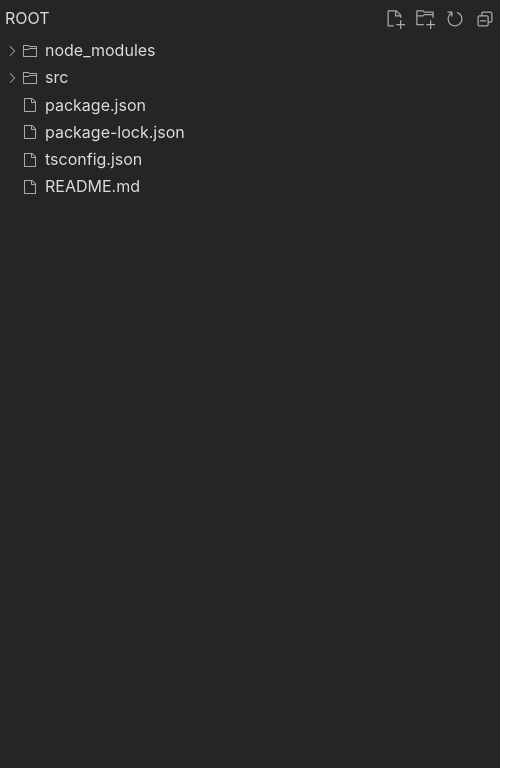
Scenario: expands when src/components directory is clicked
Click the element named "src-file-row": (36,77) x1=4 y1=67 x2=68 y2=87
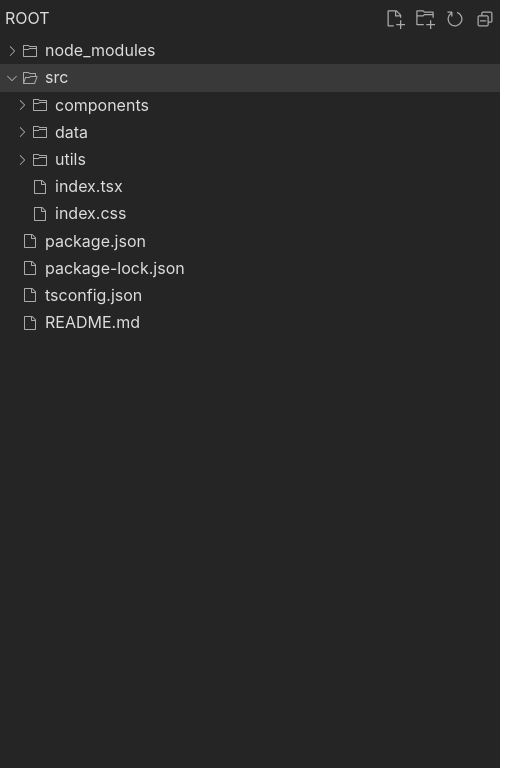
Click the element named "components-file-row": (81,105) x1=14 y1=95 x2=149 y2=115
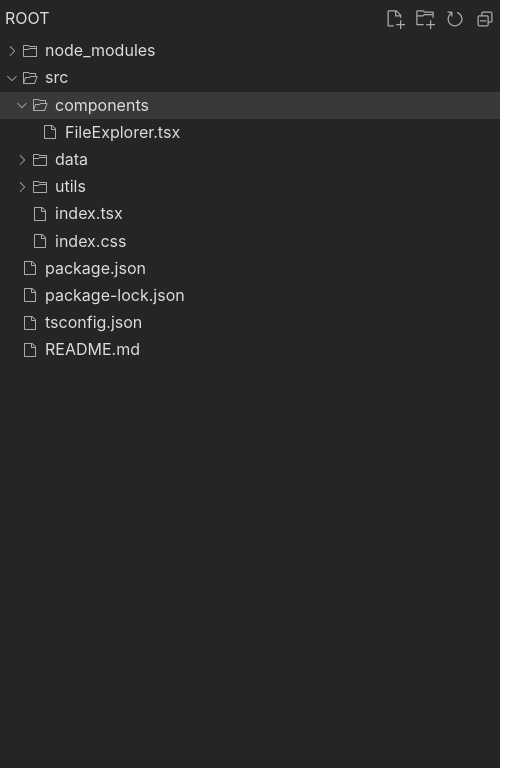
Expected: the number of elements named "file-row" is 12
